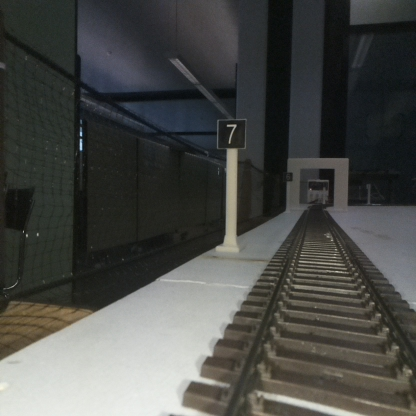black-info-7: (217, 119, 245, 251)
